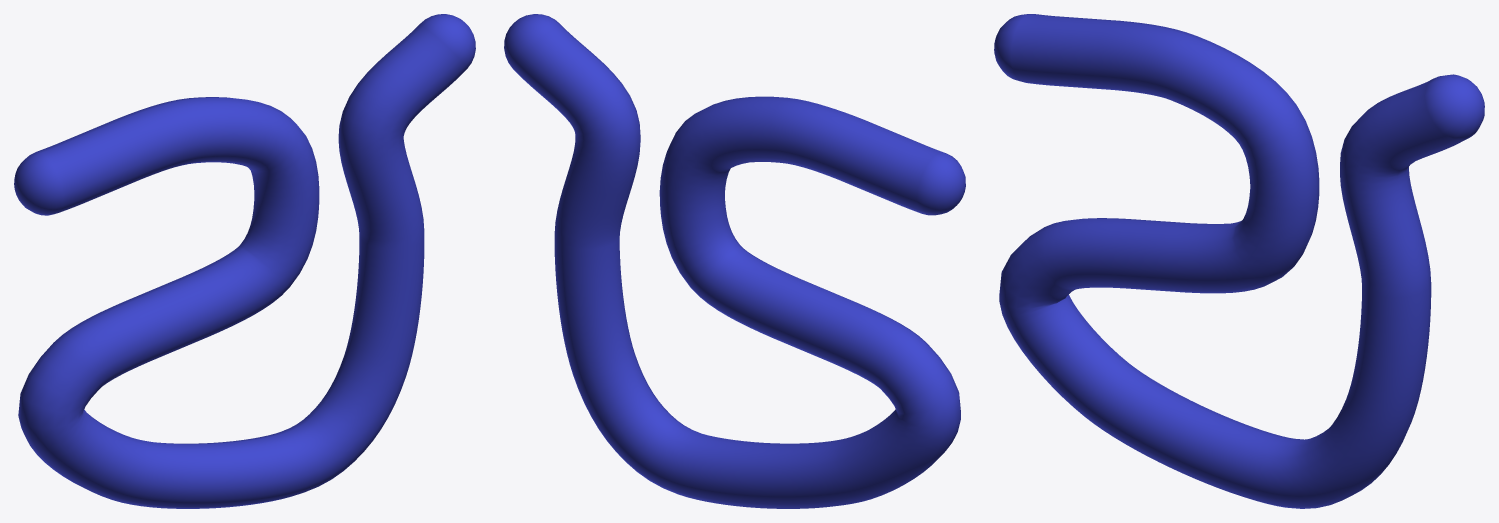
Rendered from head1.fbx.
3 views of the same model, side by side, from view 1: azimuth 30°, elevation 25°; view 2: azimuth 150°, elevation 25°; view 3: azimuth 330°, elevation 25° (orthographic). The views are drawn at different scales.
Visible parts, largest first — view 1: root; view 2: root; view 3: root.
Boxes of the visible parts, bbox=[...] form: root: bbox=[14, 14, 475, 508]; root: bbox=[504, 14, 965, 508]; root: bbox=[994, 14, 1484, 508].
Bounding box in the file's own units: 0.4775 × 0.4423 × 0.0593.
